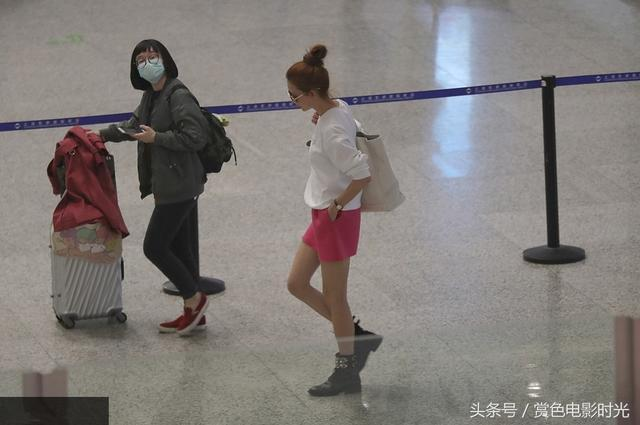other: (271, 42, 407, 408), (80, 34, 235, 342)
